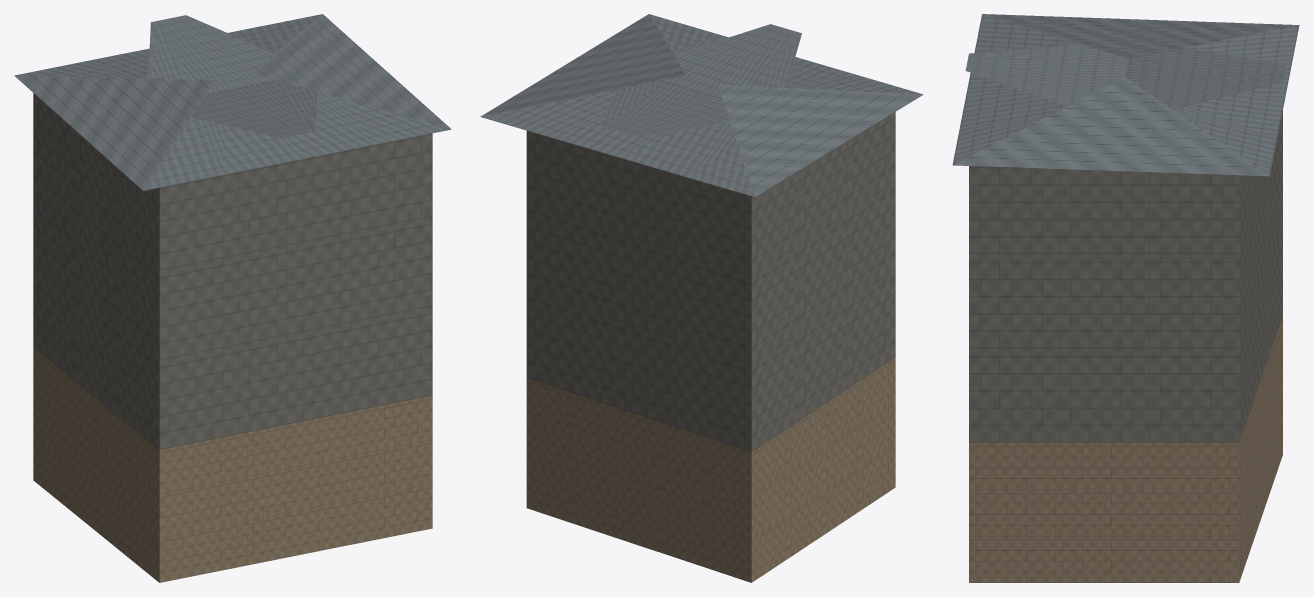
File: bld_c44_-39_419.gltf
The picture shows the model from 3 angles, left to right: view 1: azimuth 30°, elevation 25°; view 2: azimuth 150°, elevation 25°; view 3: azimuth 270°, elevation 25°; orthographic projection. The views are drawn at different scales.
Parts seen in each view (by area): view 1: bld_c44_-39_419; view 2: bld_c44_-39_419; view 3: bld_c44_-39_419.
Part boxes in pixels (x1,y1,x2,y2): bld_c44_-39_419: (14, 14, 451, 582); bld_c44_-39_419: (480, 14, 923, 582); bld_c44_-39_419: (952, 14, 1299, 582).
Size of the model in its own units: 12.68 by 16.4 by 11.44.
3 materials, 3 textured.
